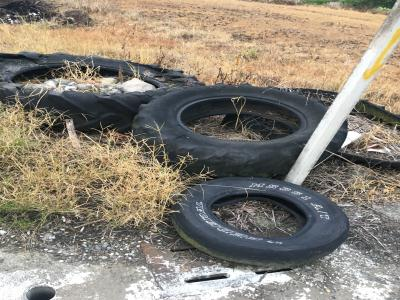tire: (131, 82, 349, 177), (169, 175, 351, 270), (1, 52, 206, 132)
